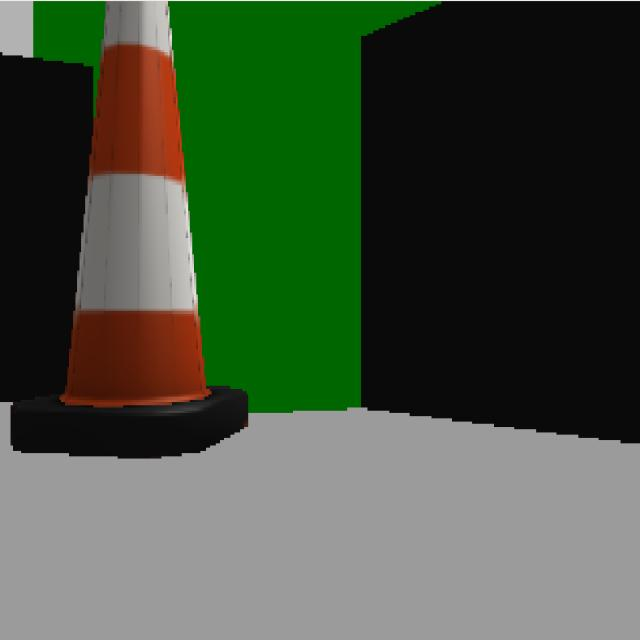Traffic Cone: (13, 0, 255, 461)
